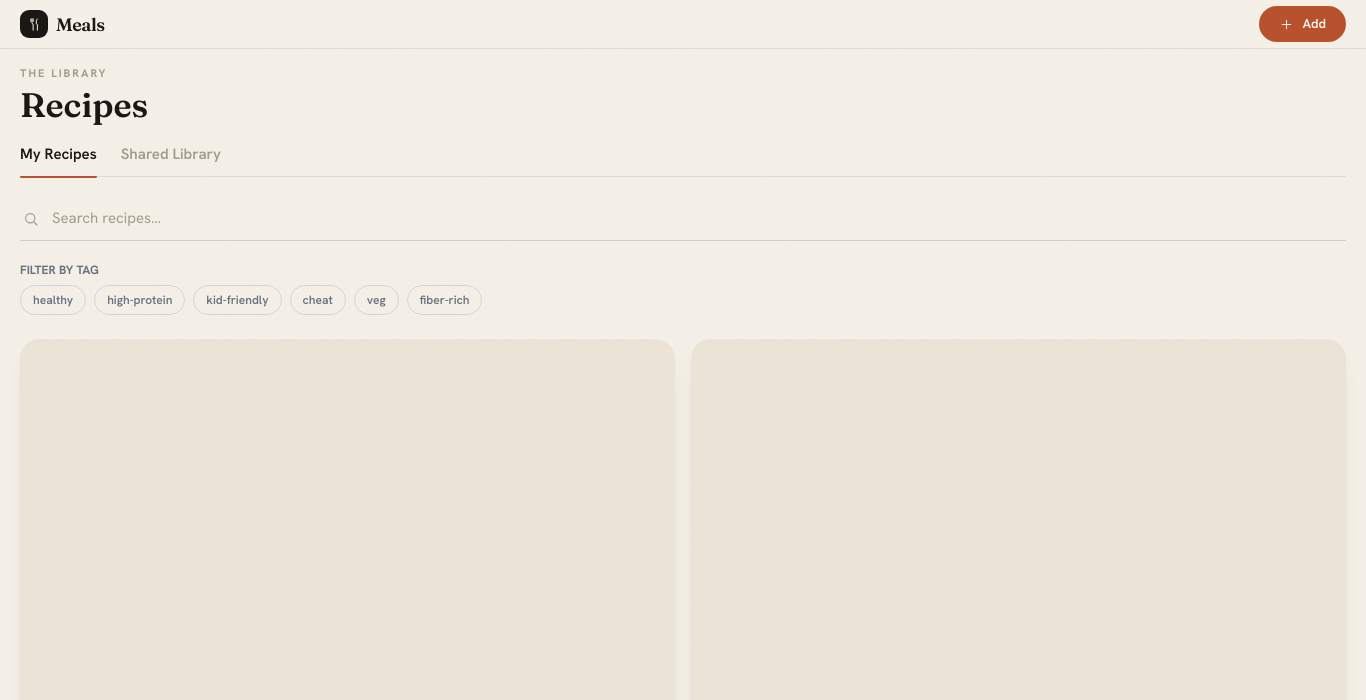
it: Recipes library screen › filters by tag with AND (intersection) semantics
What coordinates should you click on to do the following:
click the button "veg"
I would click on:
 (376, 300)
Its box is [354,285,399,315].
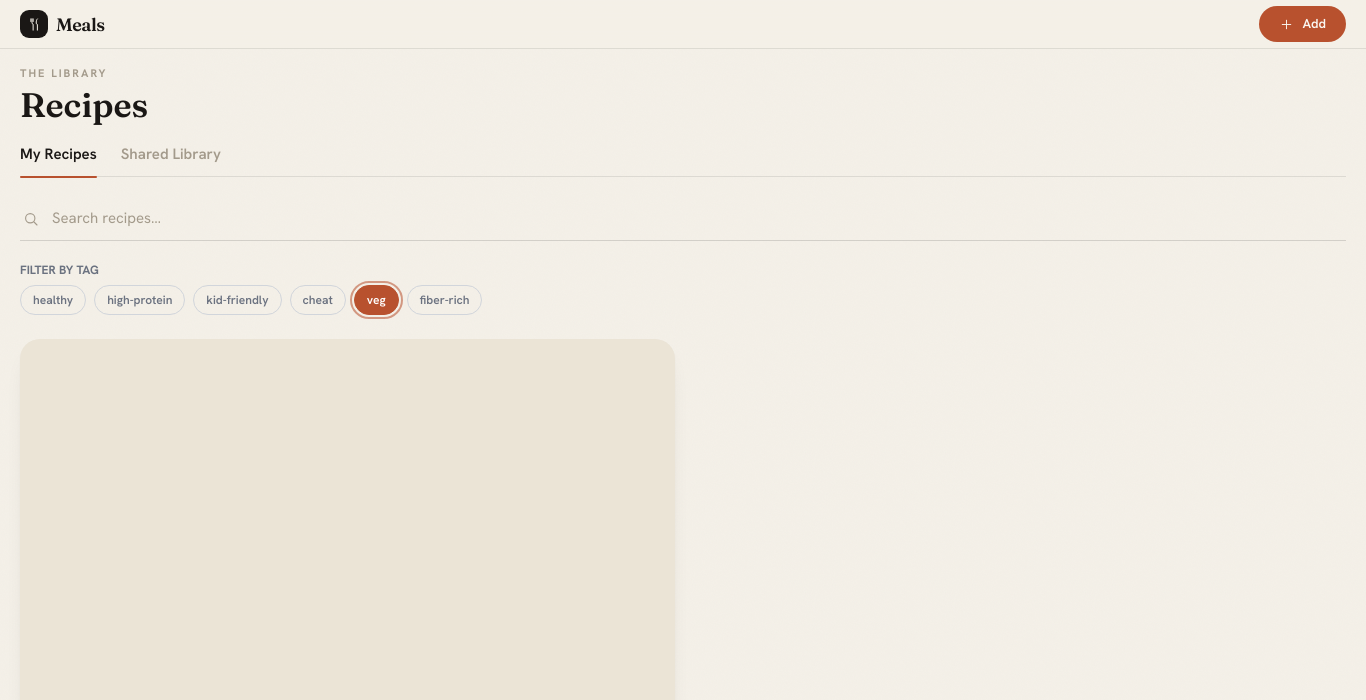
Adding a second tag requires BOTH — no fixture has veg AND high-protein, so none match.
What coordinates should you click on to do the following:
click the button "high-protein"
I would click on:
 (140, 300)
Its box is [94,285,185,315].
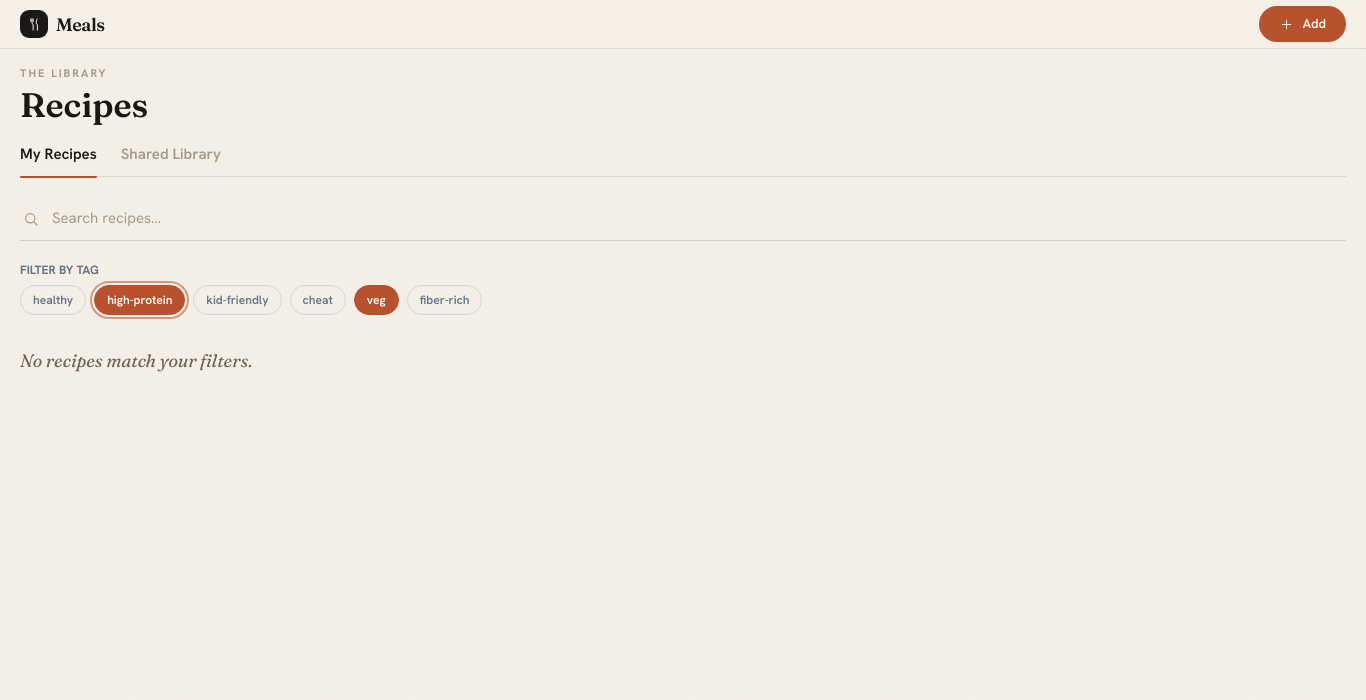
Expected: the text "No recipes match your filters." is shown, [20,349,252,372]
